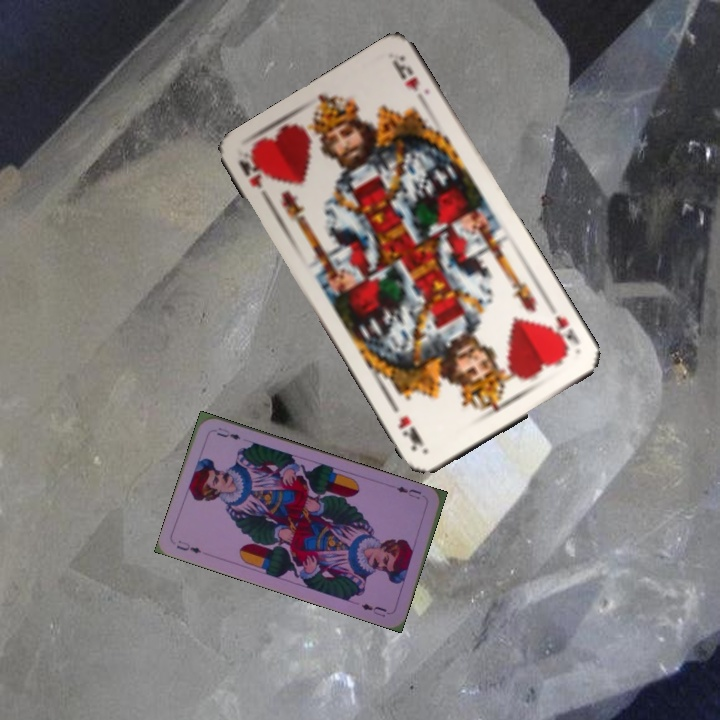EU: (392, 482, 424, 502), (172, 536, 203, 556)
HK: (234, 152, 275, 207), (546, 311, 583, 358)
